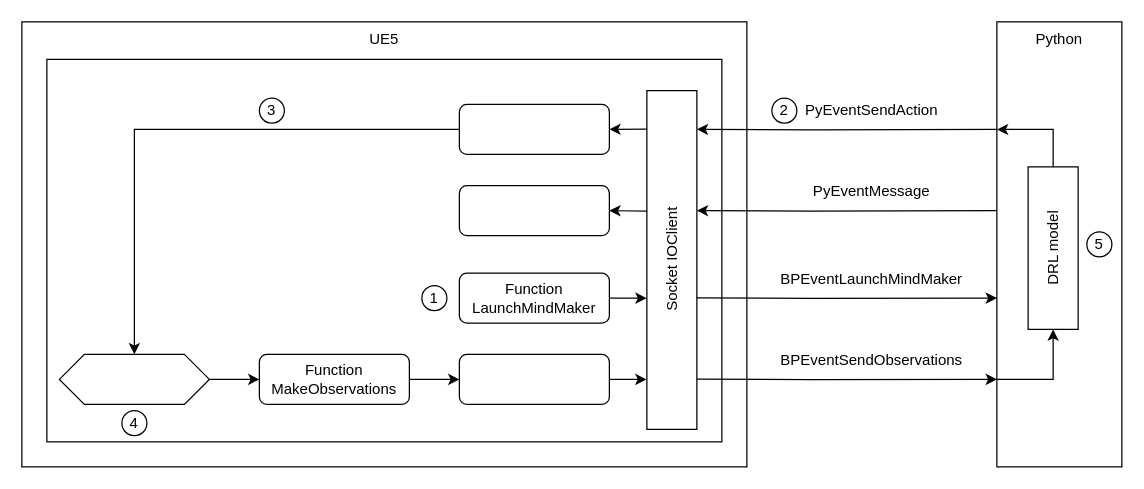
The diagram is 1144 pixels wide and 489 high, and some of its shapes have lost their labels. Each missing label, with the box of its shape:
BP_Cart: (46, 58, 722, 442)
Event DisplayAction: (58, 353, 209, 404)
Function CheckReward: (458, 353, 609, 404)
Function MessageHandler: (458, 184, 609, 236)
Function ReceiveAction: (458, 103, 609, 154)
